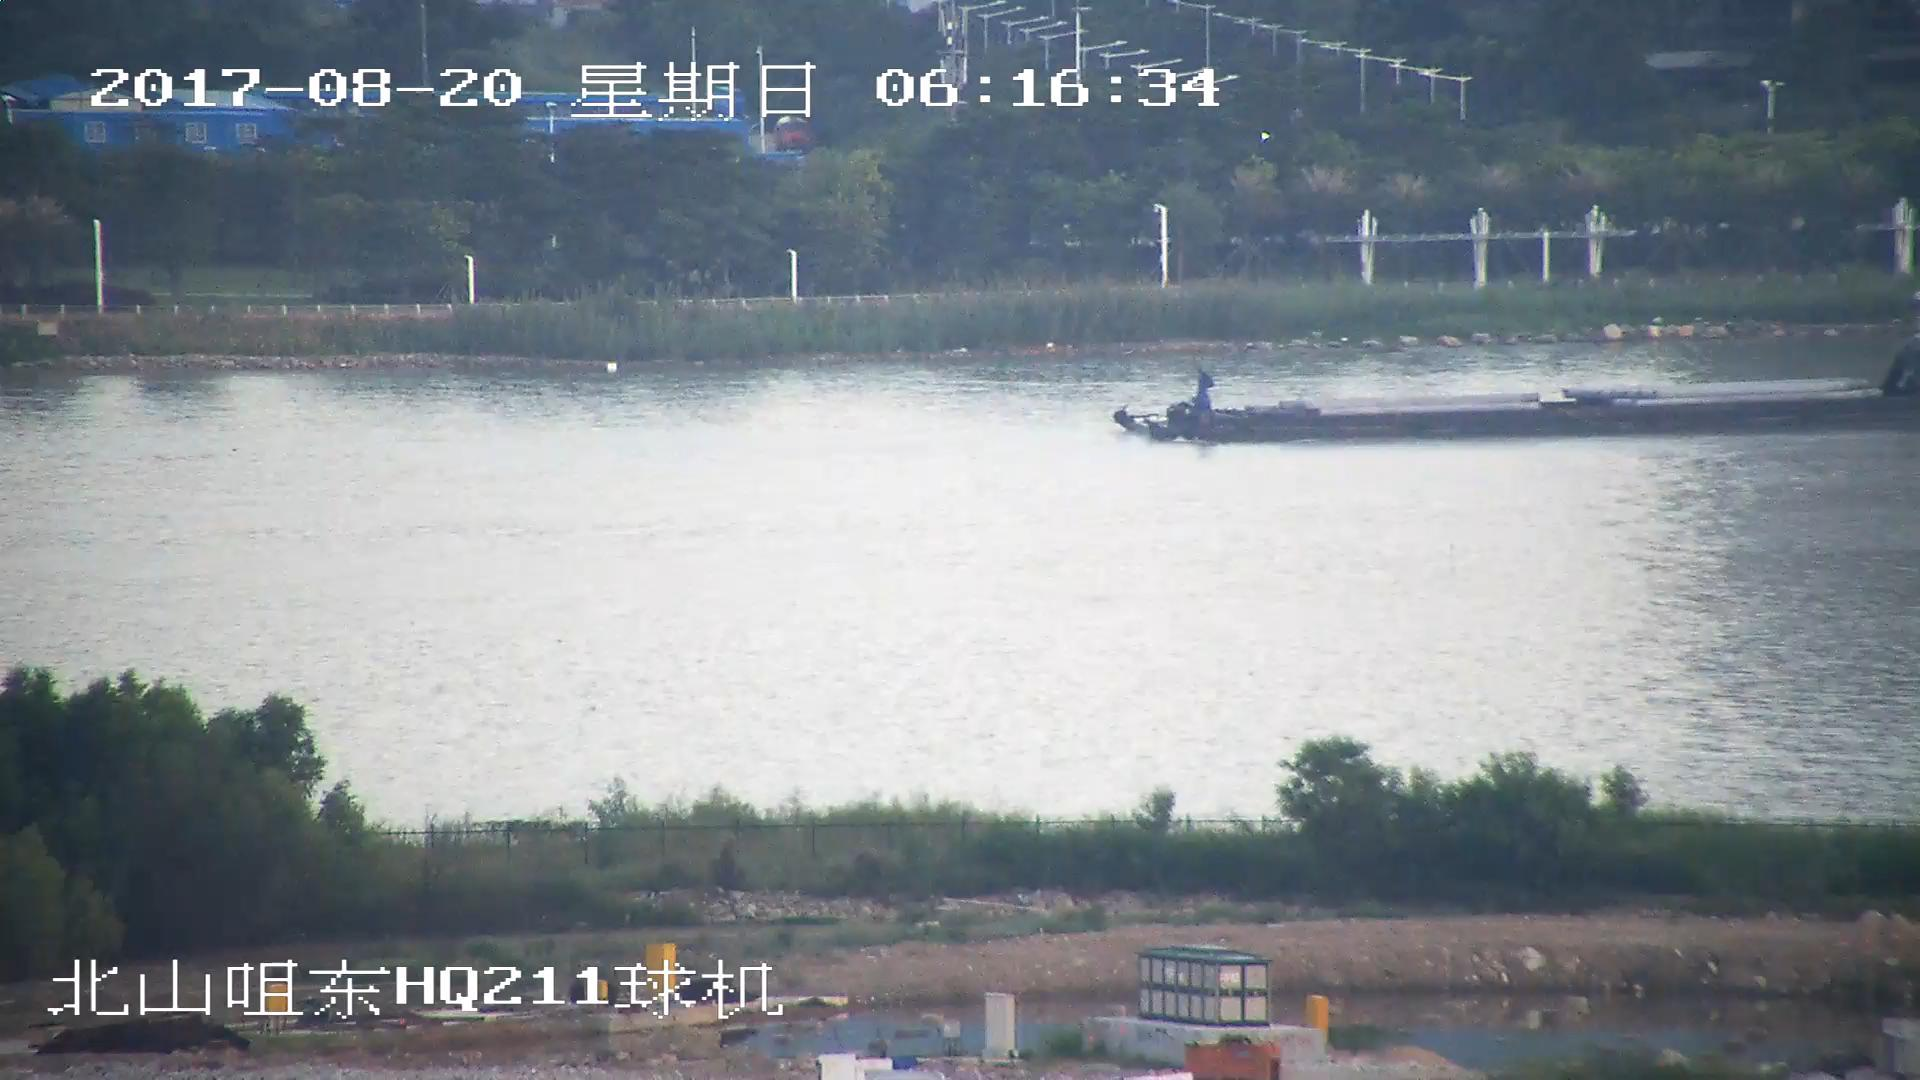Ship: (1121, 344, 1920, 447)
